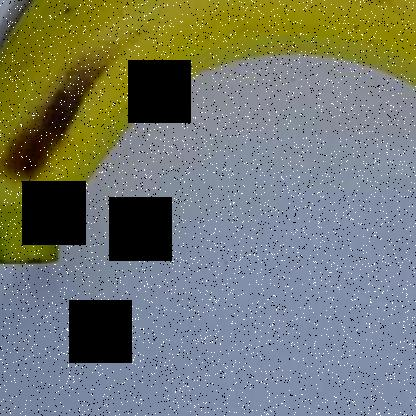freshripe: (1, 1, 415, 284)
